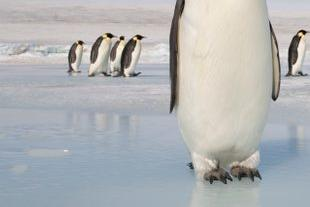Emperor Penguin: (148, 0, 310, 182)
